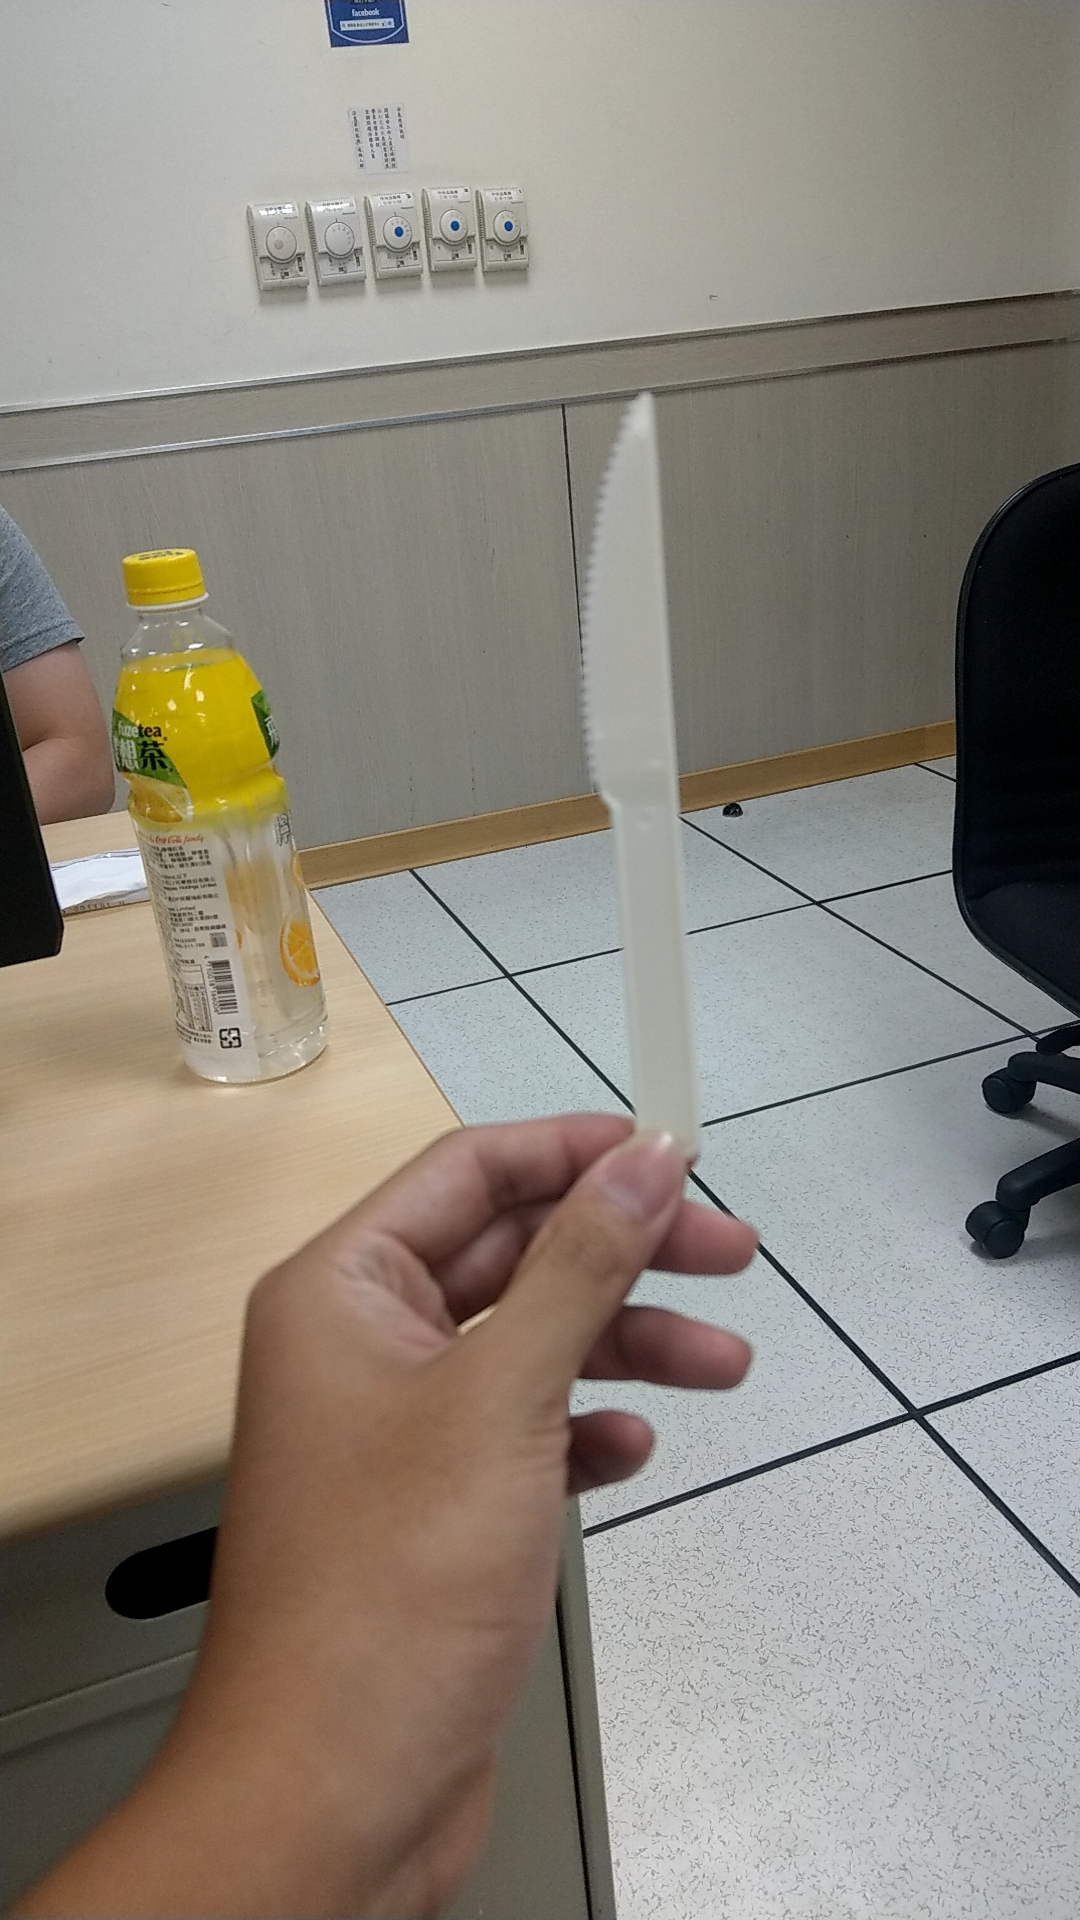knife: (554, 368, 767, 1156)
